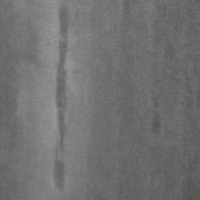inclusion: (1, 3, 34, 125), (50, 1, 75, 156), (48, 134, 70, 192), (147, 86, 166, 137)
